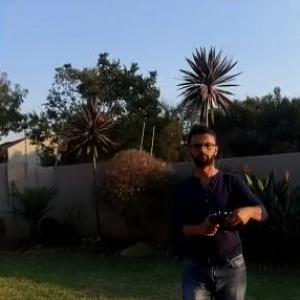follow: (162, 121, 272, 299)
